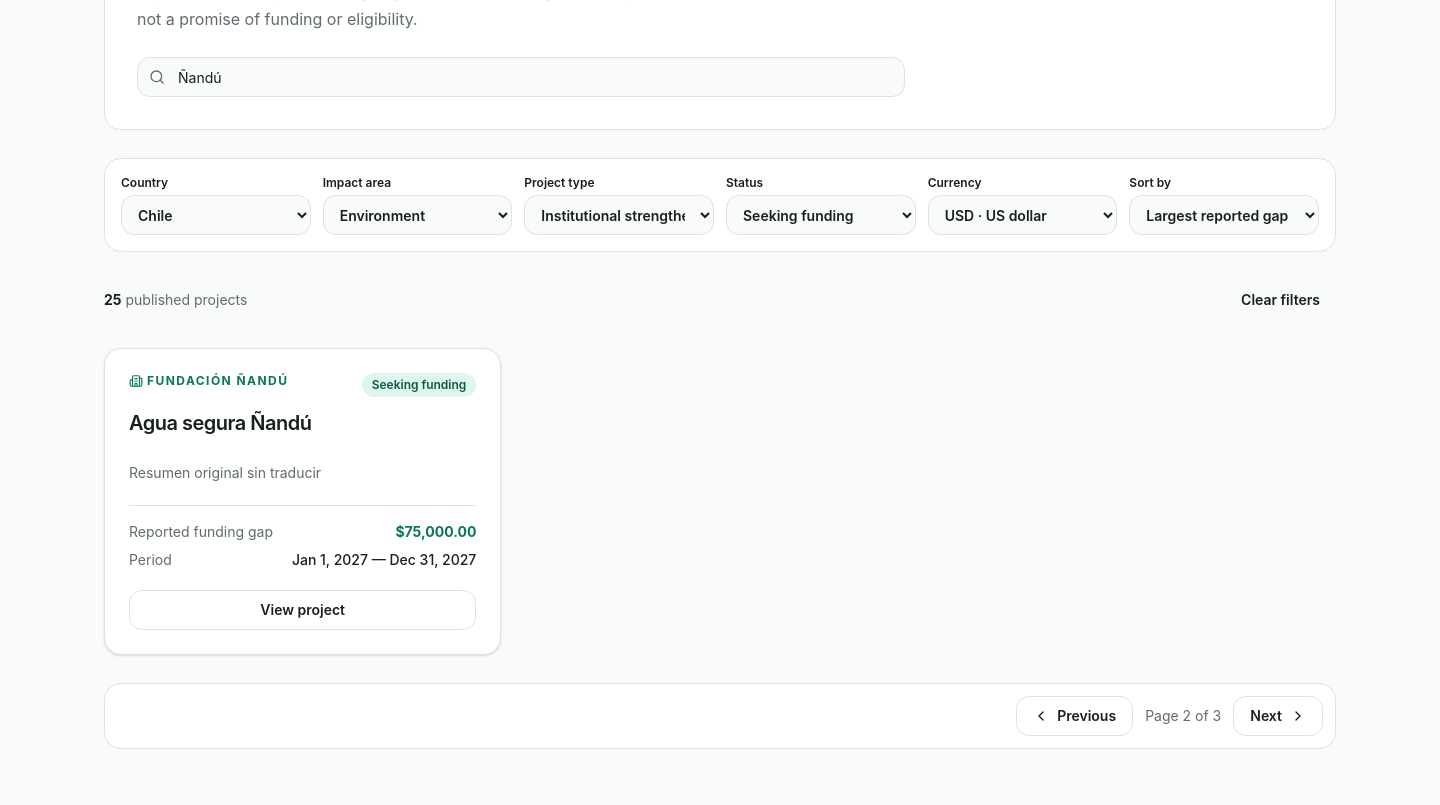
Test case: marketplace language changes › preserves the query, all filters, order, page and catalog IDs without repeating reads
(page scrolled)
Expected: the heading "Agua segura Ñandú" is shown, x1=129 y1=411 x2=312 y2=435
Expected: the search field named "Search projects" holds "Ñandú", x1=137 y1=57 x2=905 y2=97
Step 1. Click the button "Next" → (1278, 716), box x1=1233 y1=696 x2=1323 y2=736
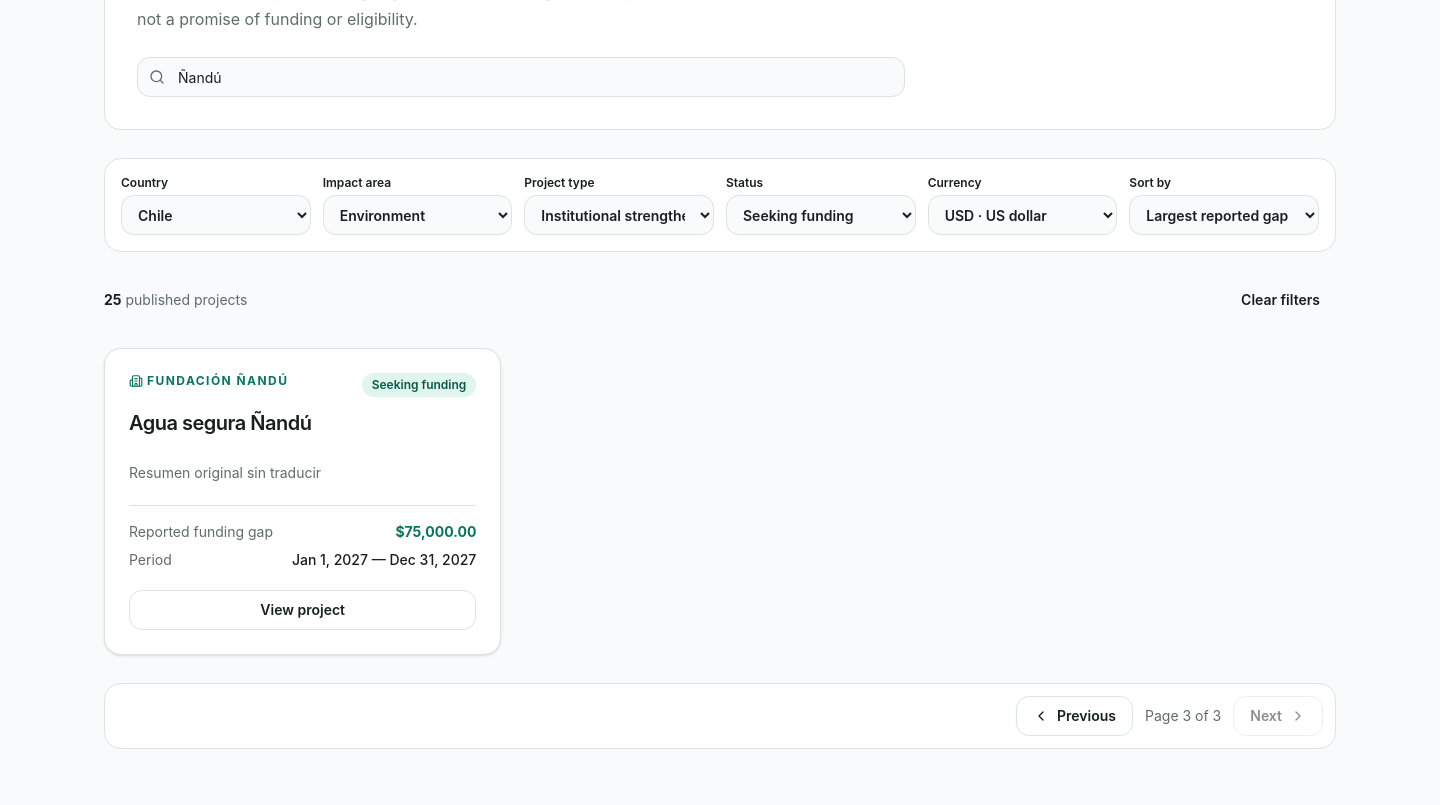
Result: the text "Page 3 of 3" is shown at x1=1145 y1=706 x2=1221 y2=726
